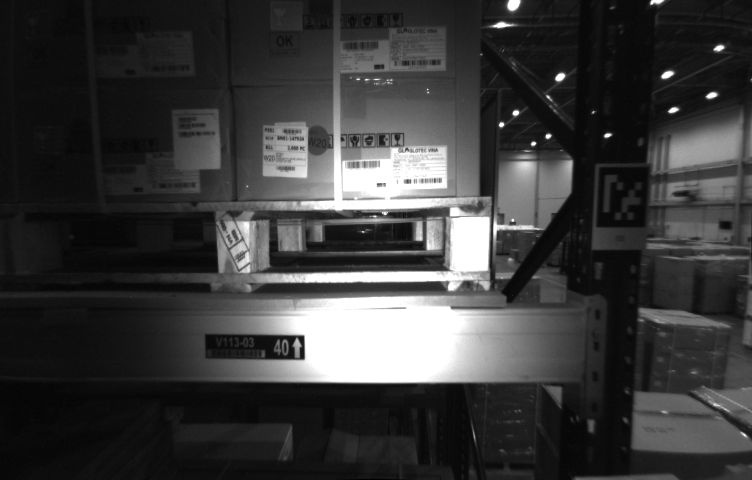True Barcode: (262, 121, 312, 178)
